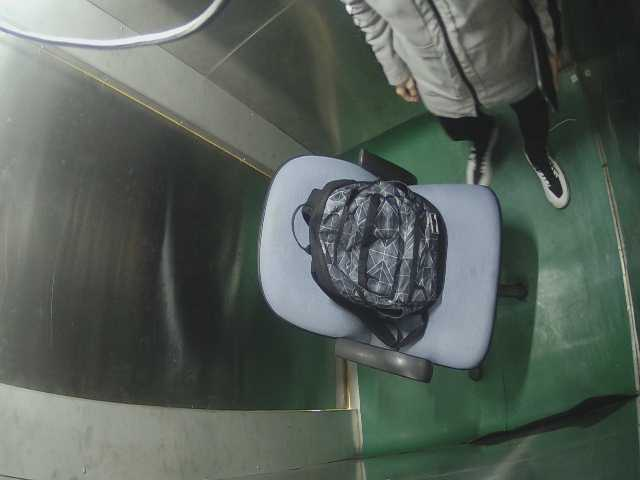bag: (293, 173, 458, 336)
chair: (235, 142, 528, 382)
person: (329, 1, 592, 218)
